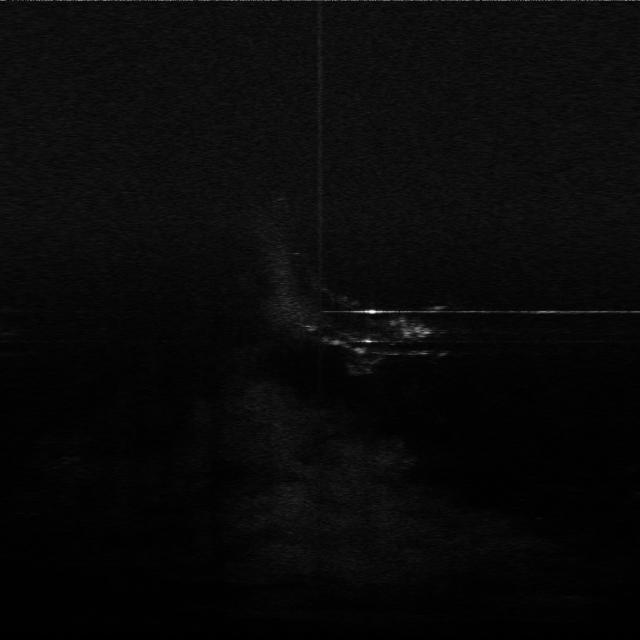rov: (404, 325, 434, 340)
